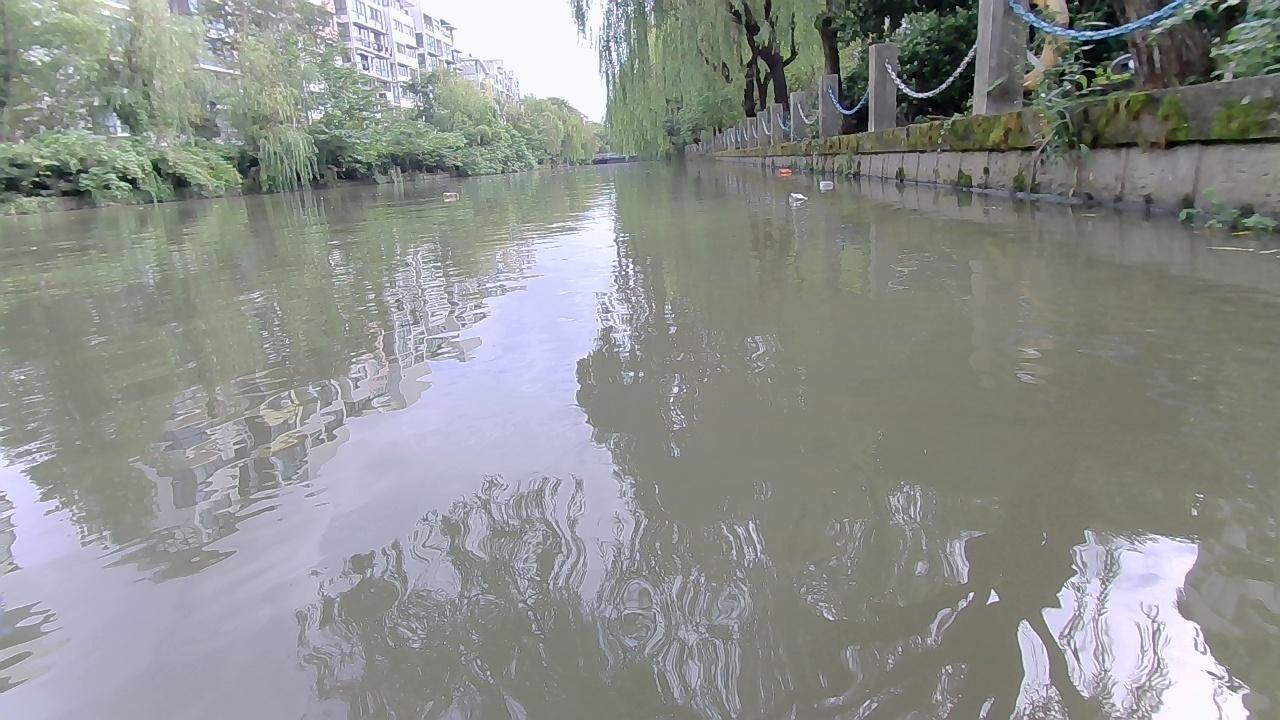bottle: (786, 191, 810, 206), (440, 190, 461, 200), (815, 181, 833, 191), (773, 167, 791, 177)
